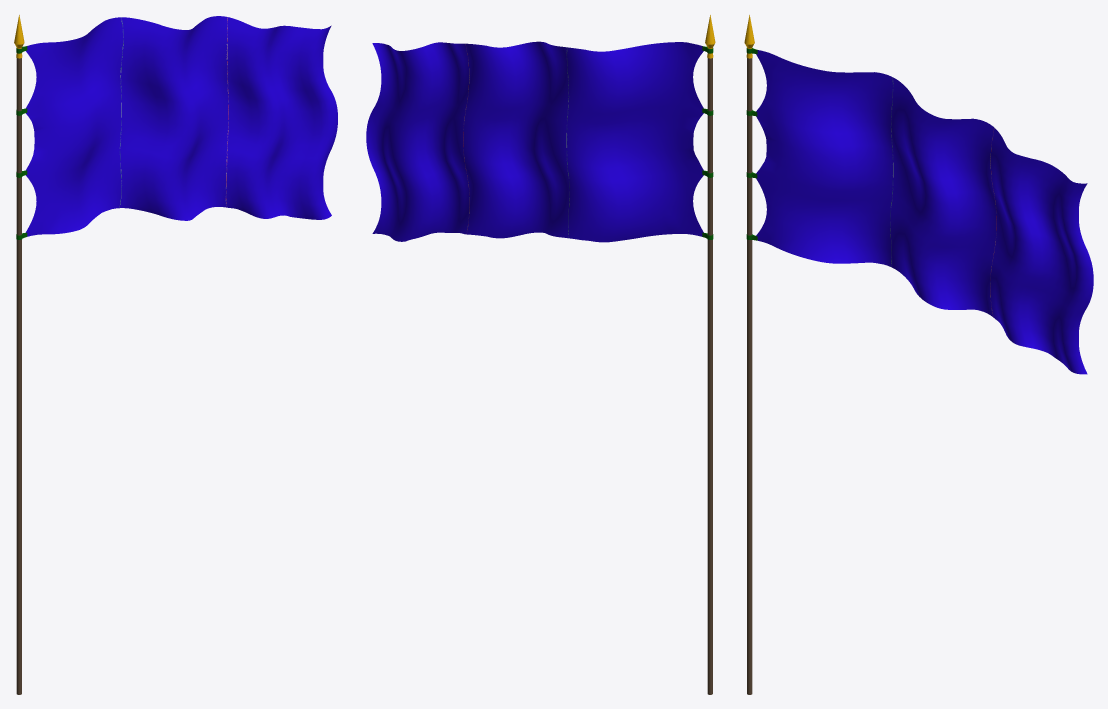
3 renders of one model, left to right at view 1: azimuth 30°, elevation 25°; view 2: azimuth 150°, elevation 25°; view 3: azimuth 330°, elevation 25°, orthographic.
Visible parts, largest first — view 1: group_6, Gruppe_23; view 2: group_6, Gruppe_23; view 3: group_6, Gruppe_23.
Part boxes in pixels (<box>): group_6: <box>25,16,337,236</box>; Gruppe_23: <box>16,58,21,694</box>; group_6: <box>366,41,703,242</box>; Gruppe_23: <box>707,58,712,694</box>; group_6: <box>756,50,1093,374</box>; Gruppe_23: <box>747,58,752,694</box>.
Bounding box in the file's own units: 163 × 19.56 × 315.
4 materials, 1 textured.
